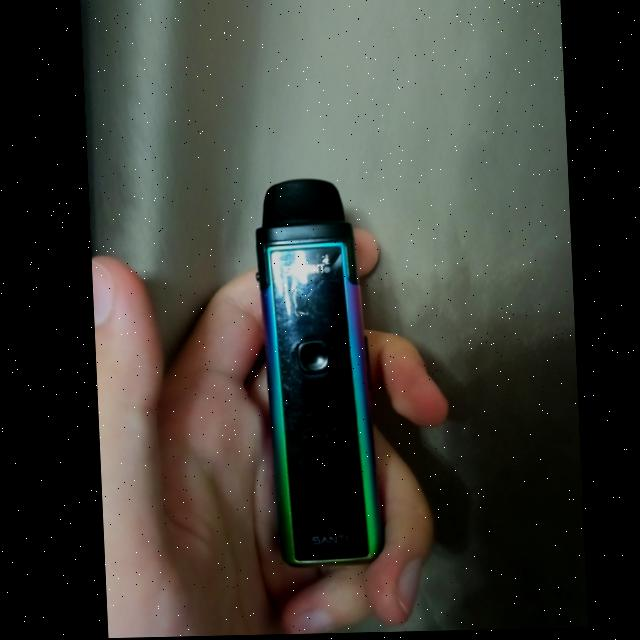vape: (247, 178, 381, 570)
